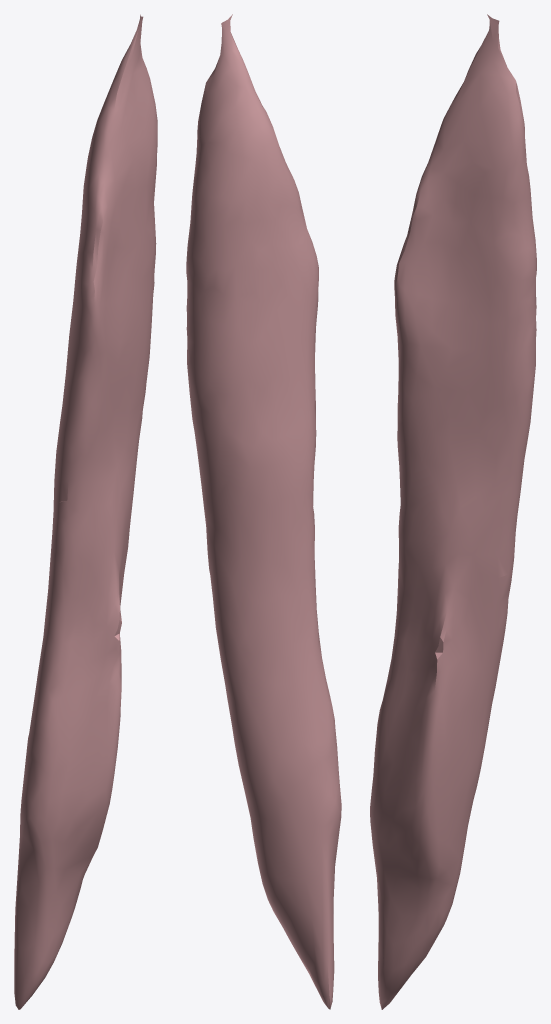
The model's file is fma47199_mm1715.glb.
The picture shows the model from 3 angles, left to right: view 1: azimuth 30°, elevation 25°; view 2: azimuth 150°, elevation 25°; view 3: azimuth 330°, elevation 25°; orthographic projection. The views are drawn at different scales.
Parts seen in each view (by area): view 1: FMA47199_MM1715; view 2: FMA47199_MM1715; view 3: FMA47199_MM1715.
Part boxes in pixels (left/top/right/bottom): FMA47199_MM1715: left=14, top=14, right=157, bottom=1009; FMA47199_MM1715: left=186, top=14, right=341, bottom=1009; FMA47199_MM1715: left=370, top=14, right=536, bottom=1009.
Size of the model in its own units: 0.037 by 0.2448 by 0.0242.
